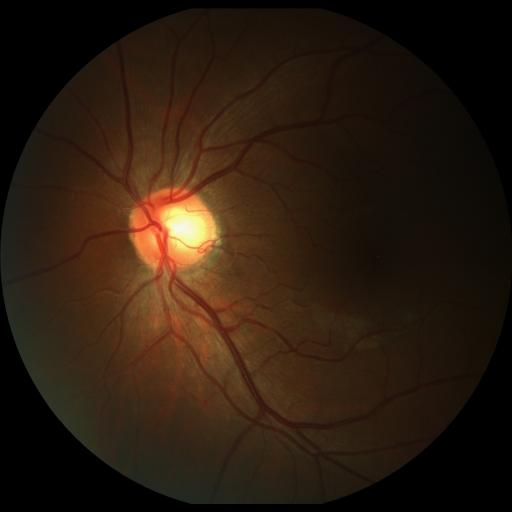Optic Cup: (162, 206, 207, 252)
Optic Disc: (129, 187, 219, 272)
